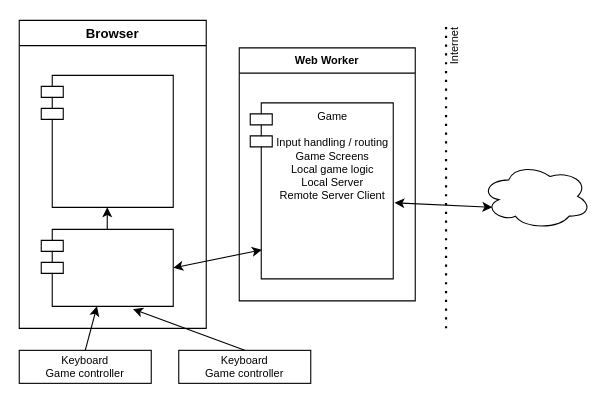
Image size: 611x403. Some labels were removed from this diagram. The shapes that lost their labels are listed below. From the top down, each one's centre as x and y in pixels, then its label:
[106,140]: 3D Client (graphics rendering)
[535,195]: Remote Server
[106,267]: Game Client Input capture / routing Graphic msg routing Worker connection
